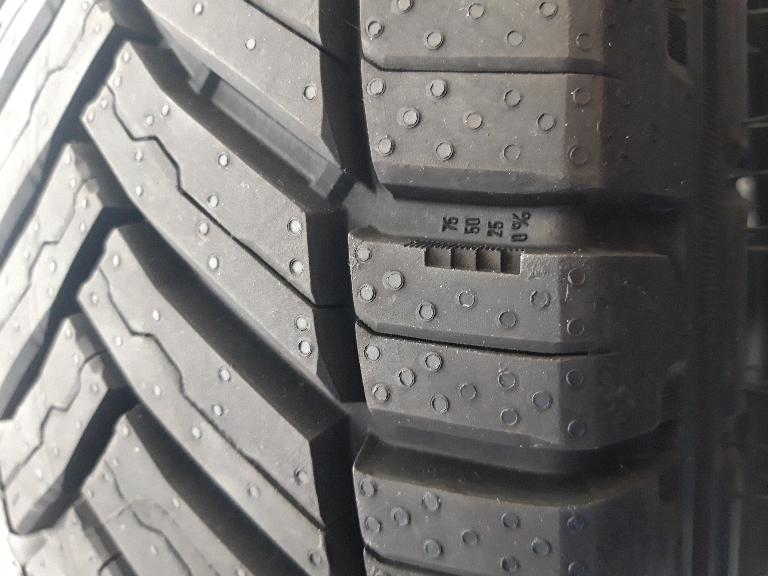temoin:100: (399, 235, 529, 280)
